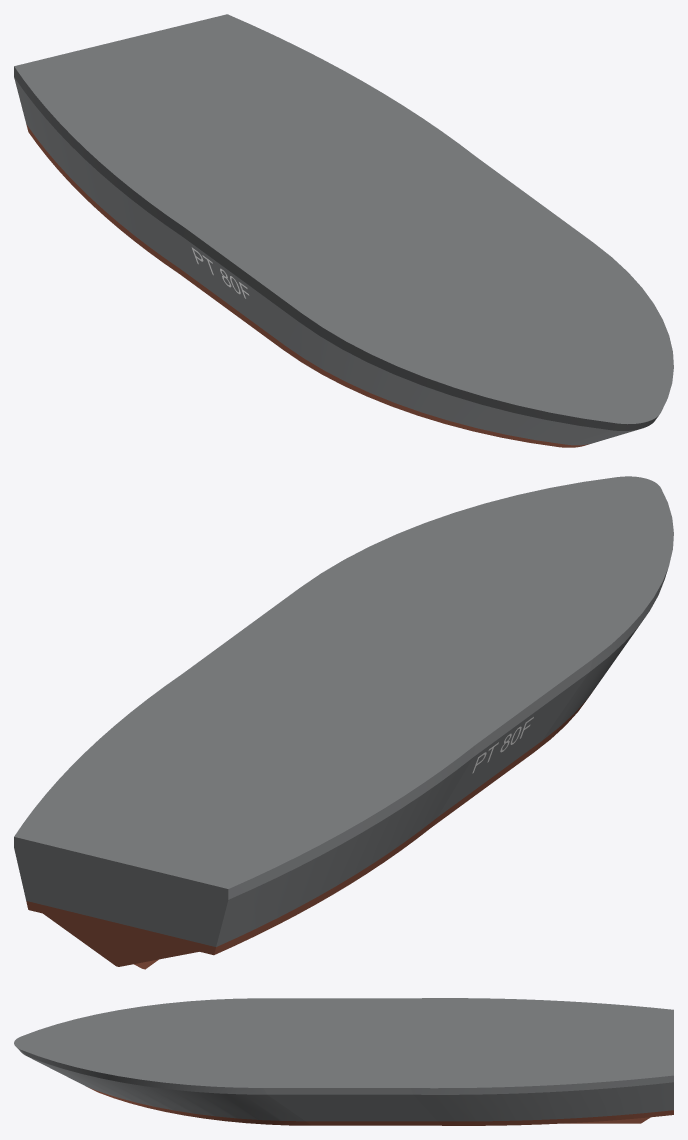
File: PTgunBoatHull.dae
3 views of the same model, one above another, from view 1: azimuth 30°, elevation 25°; view 2: azimuth 150°, elevation 25°; view 3: azimuth 270°, elevation 25° (orthographic). The views are drawn at different scales.
Visible parts, largest first — view 1: SketchUp (×2); view 2: SketchUp (×2); view 3: SketchUp (×2).
Boxes of the visible parts, bbox=[...] form: SketchUp (×2): bbox=[14, 14, 673, 447]; SketchUp (×2): bbox=[14, 476, 673, 969]; SketchUp (×2): bbox=[14, 998, 673, 1125].
Size of the model in its own units: 315 by 975 by 129.
